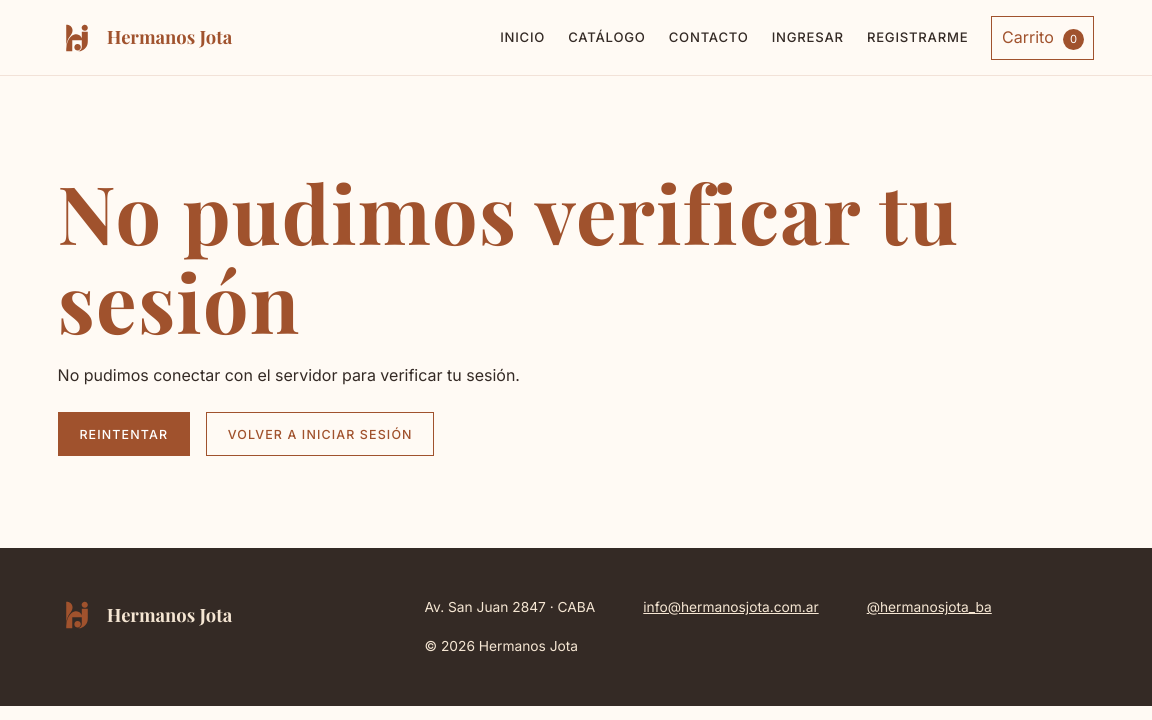
autenticación y rutas de la aplicación › conserva el token ante un fallo de red y permite recuperar la sesión reintentando
The width and height of the screenshot is (1152, 720).
Expected: the heading "No pudimos verificar tu sesión" is shown, [58,168,1094,346]
Click the button "Reintentar" at (124, 434), box [58,412,190,456]
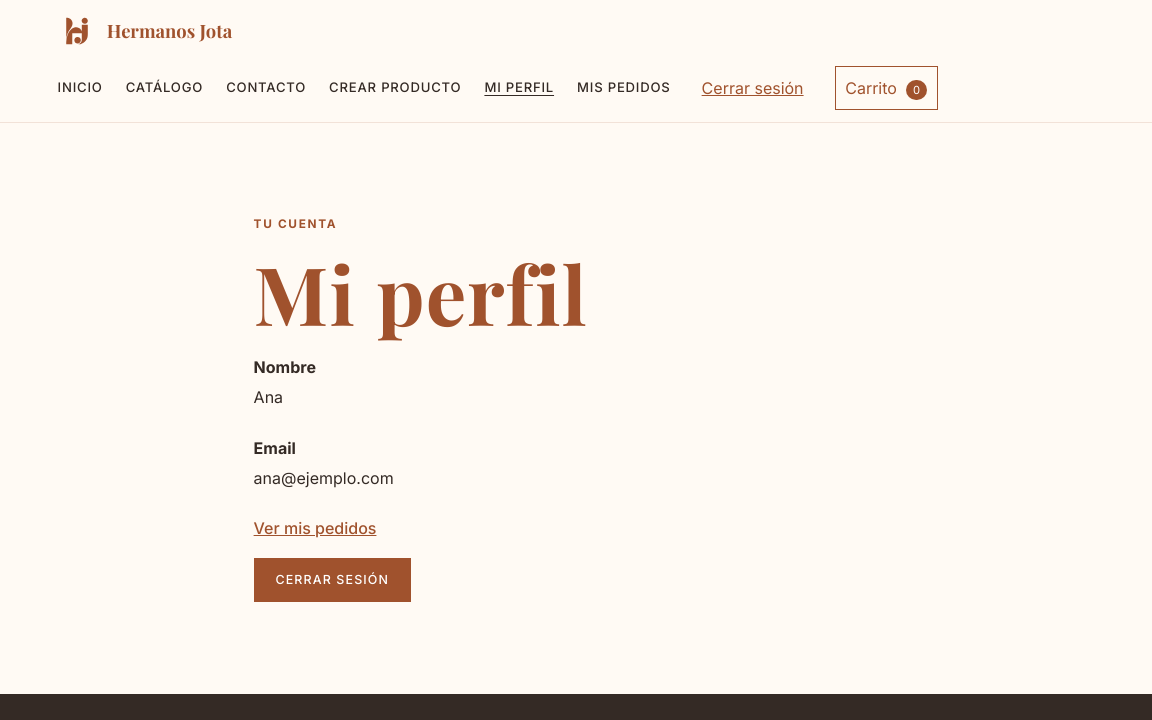
Expected: the heading "Mi perfil" is shown, [254,239,588,346]
